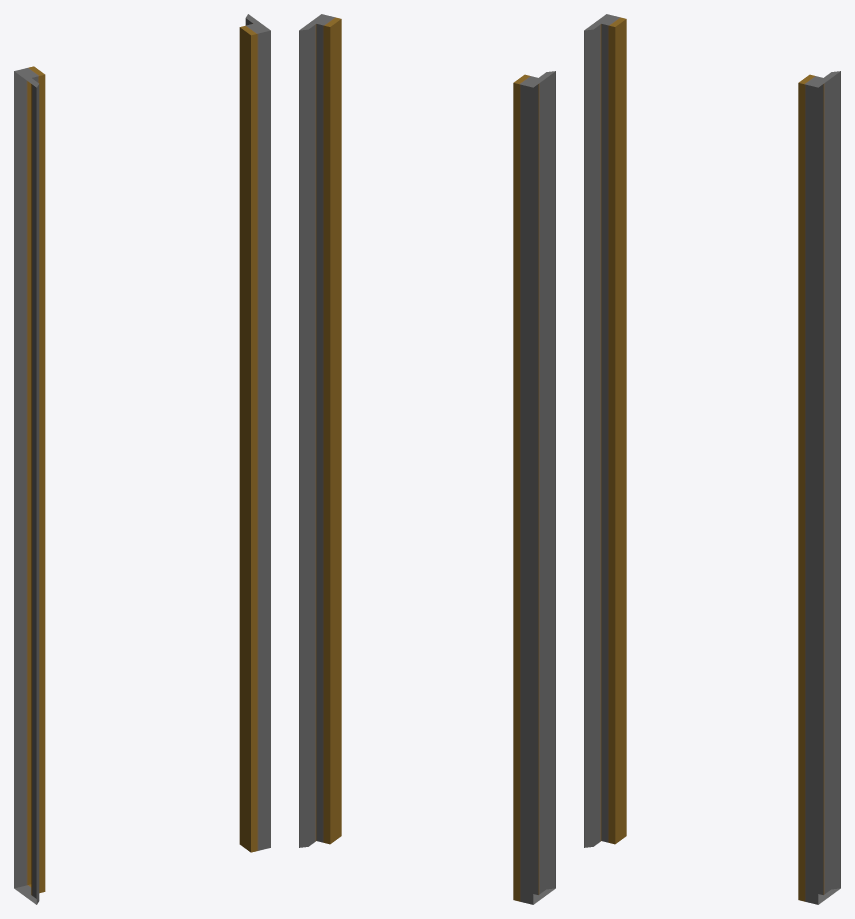
The model's file is door_interior1_open.fbx.
3 views of the same model, side by side, from view 1: azimuth 30°, elevation 25°; view 2: azimuth 150°, elevation 25°; view 3: azimuth 330°, elevation 25° (orthographic).
Visible parts, largest first — view 1: door_interior1_open; view 2: door_interior1_open; view 3: door_interior1_open.
Part boxes in pixels (x1=…): door_interior1_open: x1=14, y1=14, x2=270, y2=904; door_interior1_open: x1=299, y1=14, x2=555, y2=904; door_interior1_open: x1=584, y1=14, x2=840, y2=904.
Size of the model in its own units: 0.6 by 2 by 0.1.
